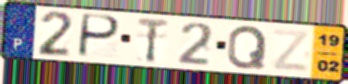2: (37, 10, 75, 58), (176, 21, 216, 66)
P: (75, 12, 123, 60)
Q: (225, 24, 269, 70)
T: (135, 16, 171, 64)
Z: (270, 27, 312, 74)
